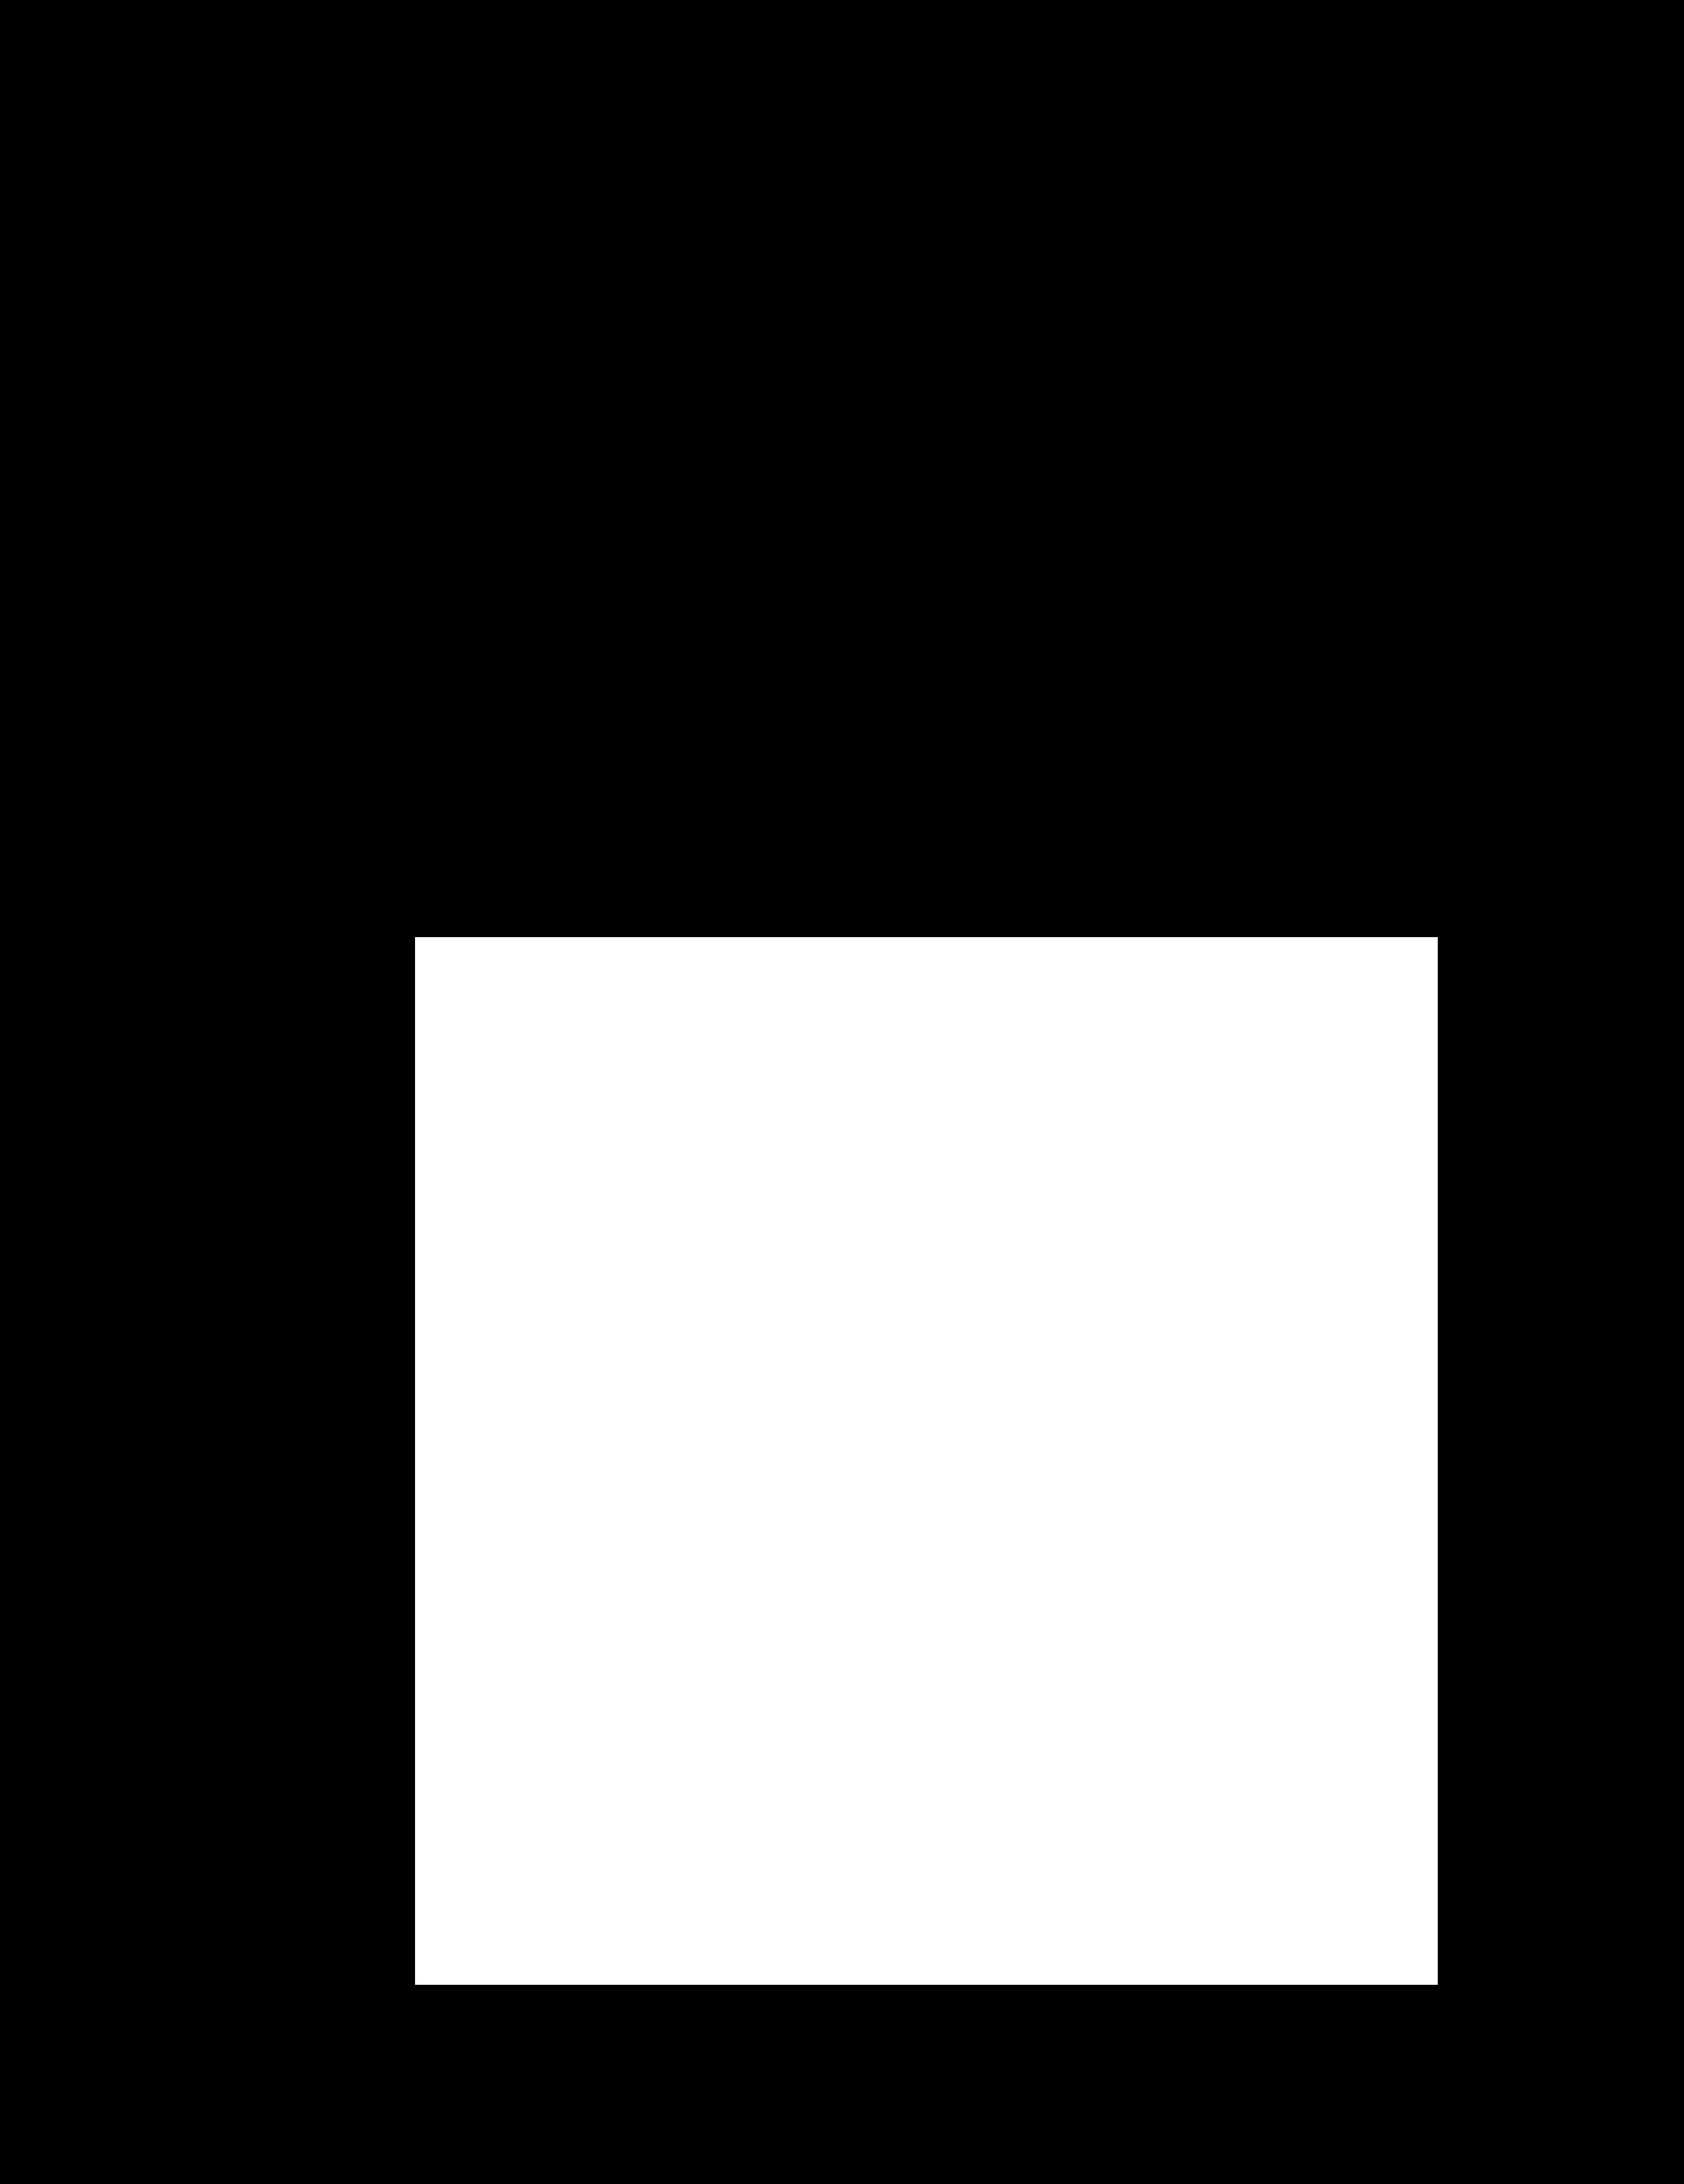table: (416, 937, 1436, 1984)
